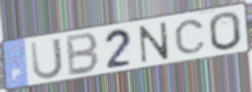2: (104, 26, 136, 72)
B: (66, 31, 101, 78)
C: (173, 18, 208, 56)
N: (138, 20, 171, 65)
O: (207, 10, 244, 53)
U: (28, 36, 65, 82)
